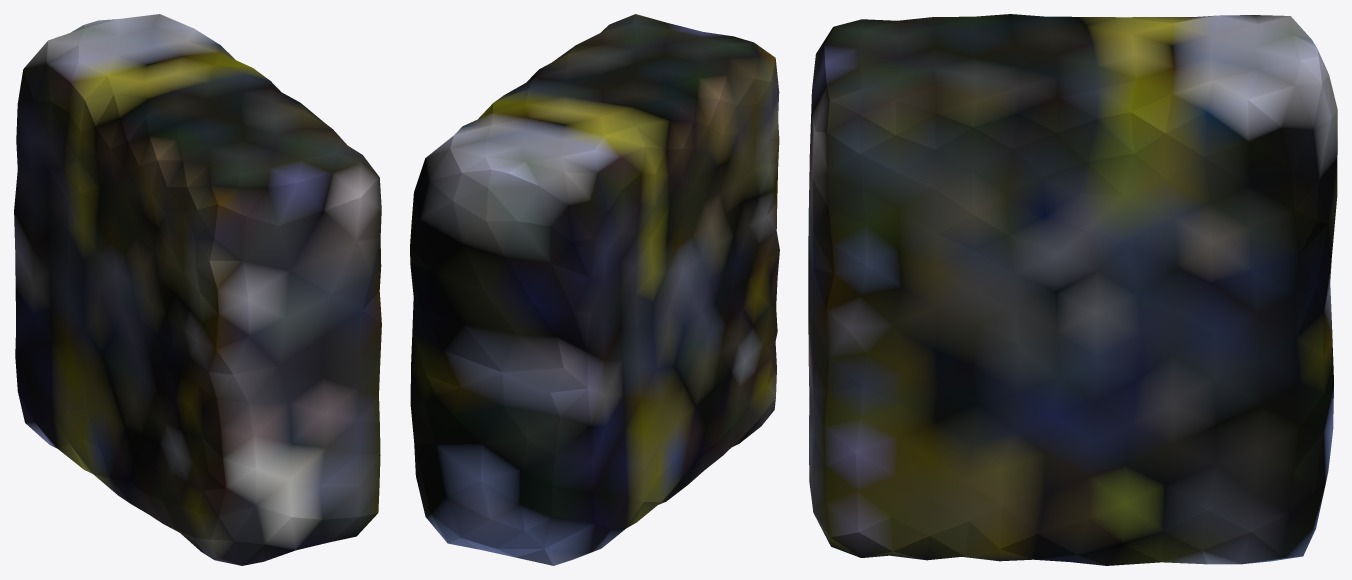
The model's file is warrior-box2.dae.
The picture shows the model from 3 angles, left to right: view 1: azimuth 30°, elevation 25°; view 2: azimuth 150°, elevation 25°; view 3: azimuth 270°, elevation 25°; orthographic projection. The views are drawn at different scales.
Parts seen in each view (by area): view 1: node; view 2: node; view 3: node.
Boxes of the visible parts, left/top/right/bottom form: node: left=14, top=14, right=381, bottom=565; node: left=410, top=14, right=779, bottom=565; node: left=808, top=14, right=1337, bottom=565.
Size of the model in its own units: 0.2726 by 0.5695 by 0.5691.
